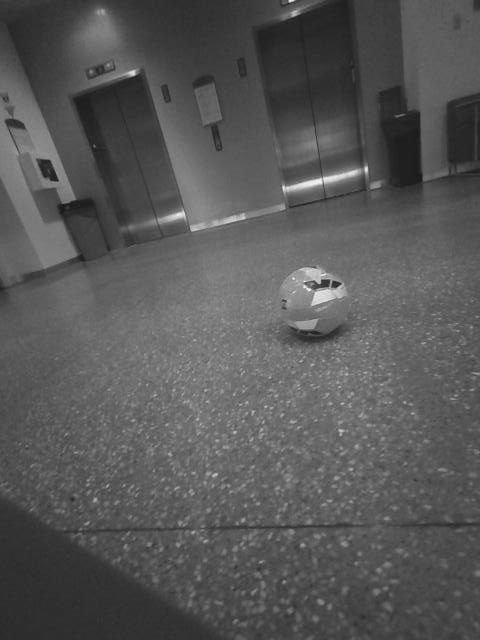ball: (269, 258, 365, 348)
